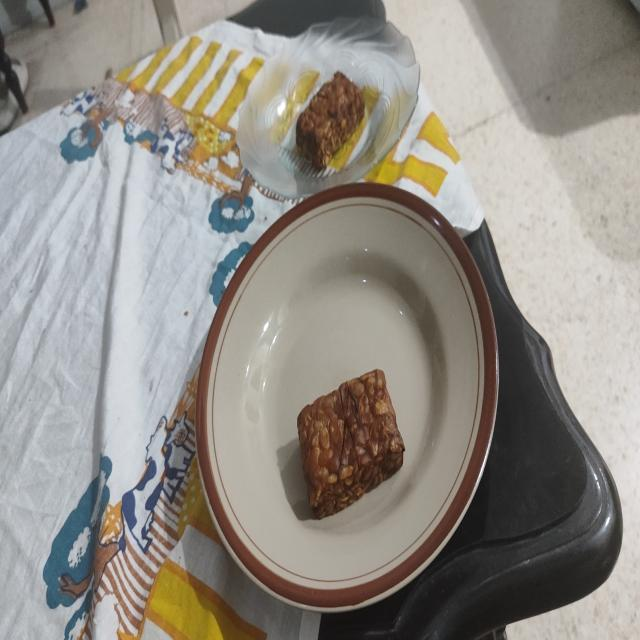tempe_goreng: (298, 370, 404, 518), (296, 72, 365, 170)
